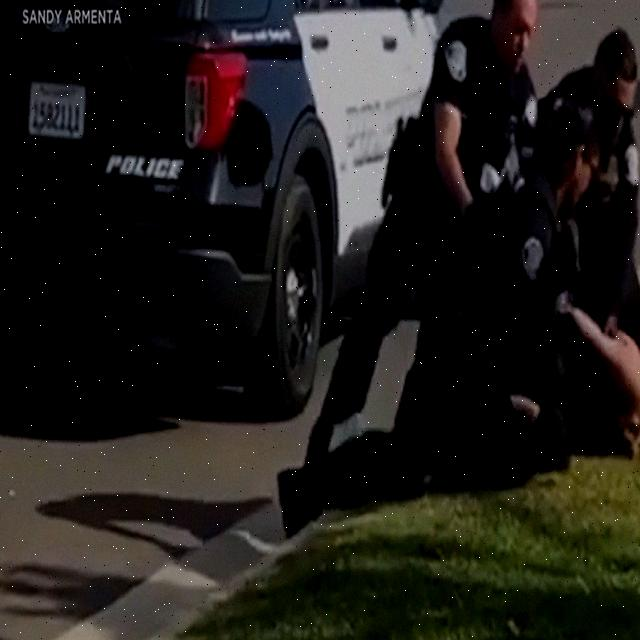police: (313, 0, 554, 432), (371, 98, 599, 484), (532, 12, 640, 386)
